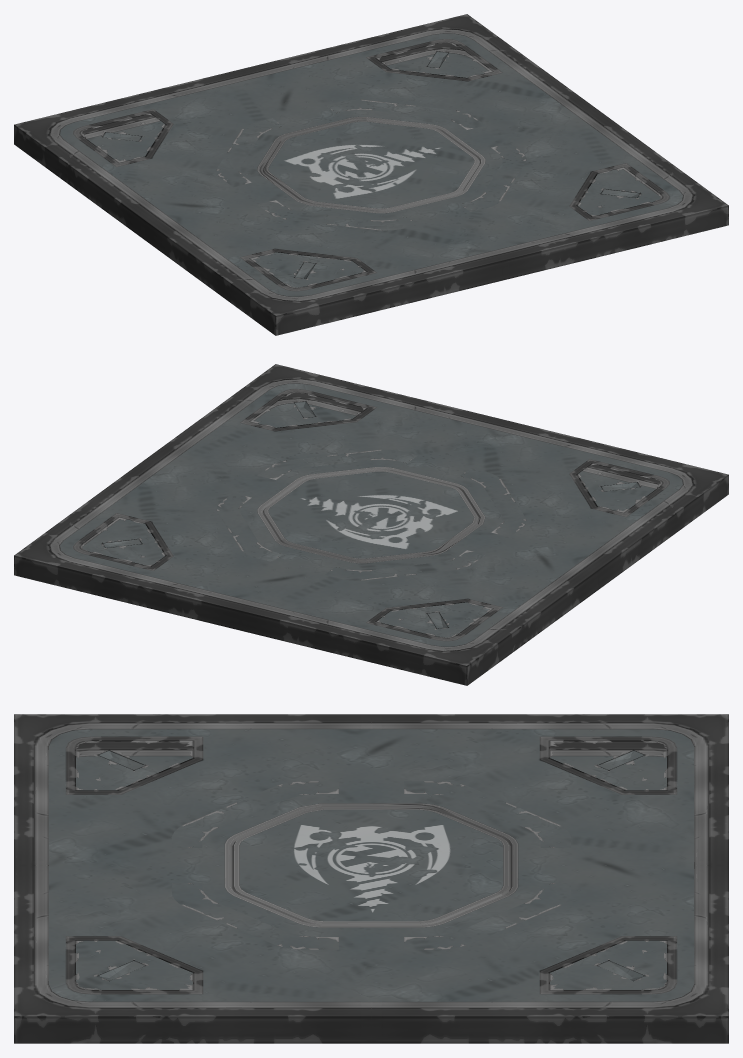
The model's file is obj_interactive_goal.fbx.
3 renders of one model, top to bottom at view 1: azimuth 30°, elevation 25°; view 2: azimuth 150°, elevation 25°; view 3: azimuth 270°, elevation 25°, orthographic. The views are drawn at different scales.
Visible parts, largest first — view 1: goal2; view 2: goal2; view 3: goal2.
Boxes of the visible parts, x1=… form: goal2: x1=14, y1=14, x2=728, y2=335; goal2: x1=14, y1=364, x2=728, y2=685; goal2: x1=14, y1=714, x2=728, y2=1043.
Bounding box in the file's own units: 48 × 2 × 48.
